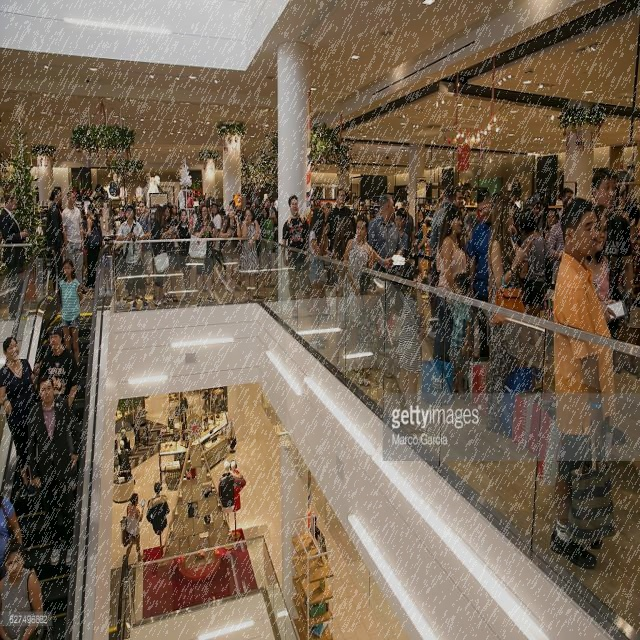pessoa: (548, 193, 618, 578), (482, 191, 534, 438), (27, 374, 84, 569), (467, 187, 519, 362), (30, 325, 81, 493), (590, 166, 634, 340), (330, 214, 376, 378), (0, 336, 40, 498), (396, 262, 430, 438), (341, 259, 385, 388), (586, 204, 626, 339), (437, 204, 469, 362), (426, 185, 456, 343), (0, 536, 46, 639), (280, 194, 316, 320), (444, 271, 477, 402), (304, 207, 332, 350), (114, 204, 150, 312), (517, 209, 549, 318), (366, 193, 404, 276), (58, 258, 86, 368), (546, 195, 576, 292), (61, 189, 88, 295), (83, 172, 165, 206), (332, 215, 356, 328), (192, 204, 218, 306), (149, 204, 174, 308), (45, 186, 67, 301), (217, 203, 242, 304), (463, 210, 480, 354), (616, 202, 640, 302), (324, 188, 358, 258), (238, 206, 262, 305), (214, 456, 249, 521), (0, 489, 23, 582), (543, 206, 561, 322), (146, 474, 174, 546), (175, 208, 194, 305), (82, 202, 103, 288), (122, 492, 147, 563), (161, 204, 178, 306), (136, 198, 153, 296), (110, 426, 138, 484), (436, 186, 464, 242), (414, 209, 427, 295), (322, 201, 334, 285), (400, 198, 416, 258), (208, 201, 222, 269), (199, 205, 215, 259), (170, 204, 182, 272), (394, 208, 410, 256), (79, 206, 89, 282), (218, 206, 228, 278), (558, 186, 575, 223), (522, 195, 542, 225), (250, 201, 264, 239), (534, 202, 549, 237), (178, 391, 190, 432), (196, 198, 212, 222), (613, 187, 631, 208), (263, 197, 276, 220), (271, 198, 279, 232), (345, 184, 354, 207), (312, 187, 318, 208), (262, 206, 270, 219), (244, 199, 252, 210), (228, 198, 236, 208), (258, 202, 264, 210), (166, 201, 172, 207)
